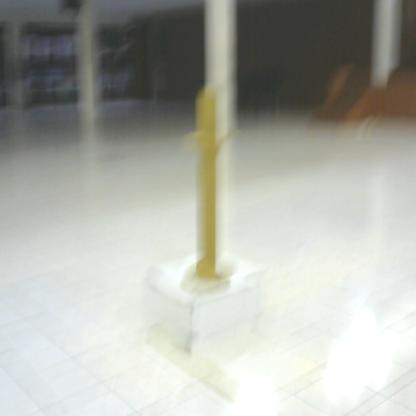pole: (175, 78, 240, 297)
